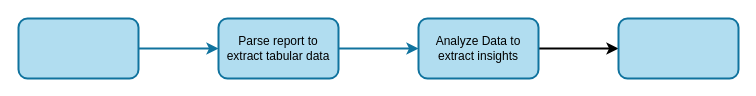
Image size: 756x96. Some labels were removed from this diagram. The centre of each missing label's shape, as x and y in pixels:
Display data on a web app: the point at 678,48
Download Situational Report from CHP: the point at 78,48
